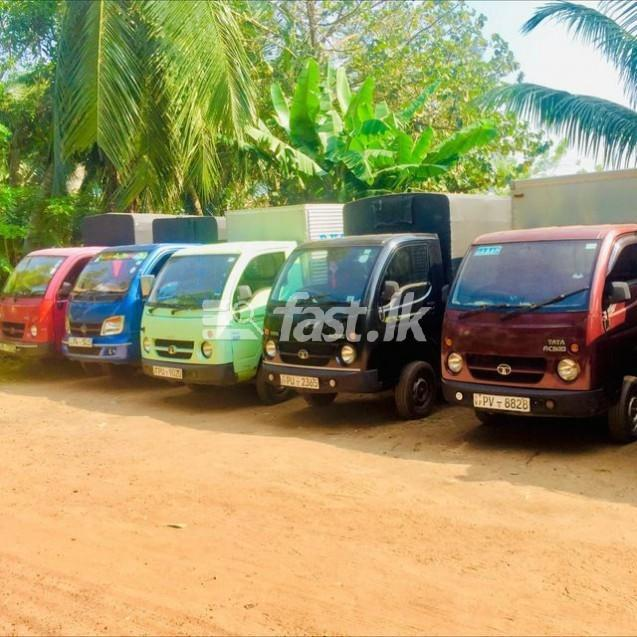truck: (260, 193, 511, 420), (441, 165, 637, 444), (138, 204, 343, 406), (64, 215, 225, 378), (1, 213, 164, 360)
